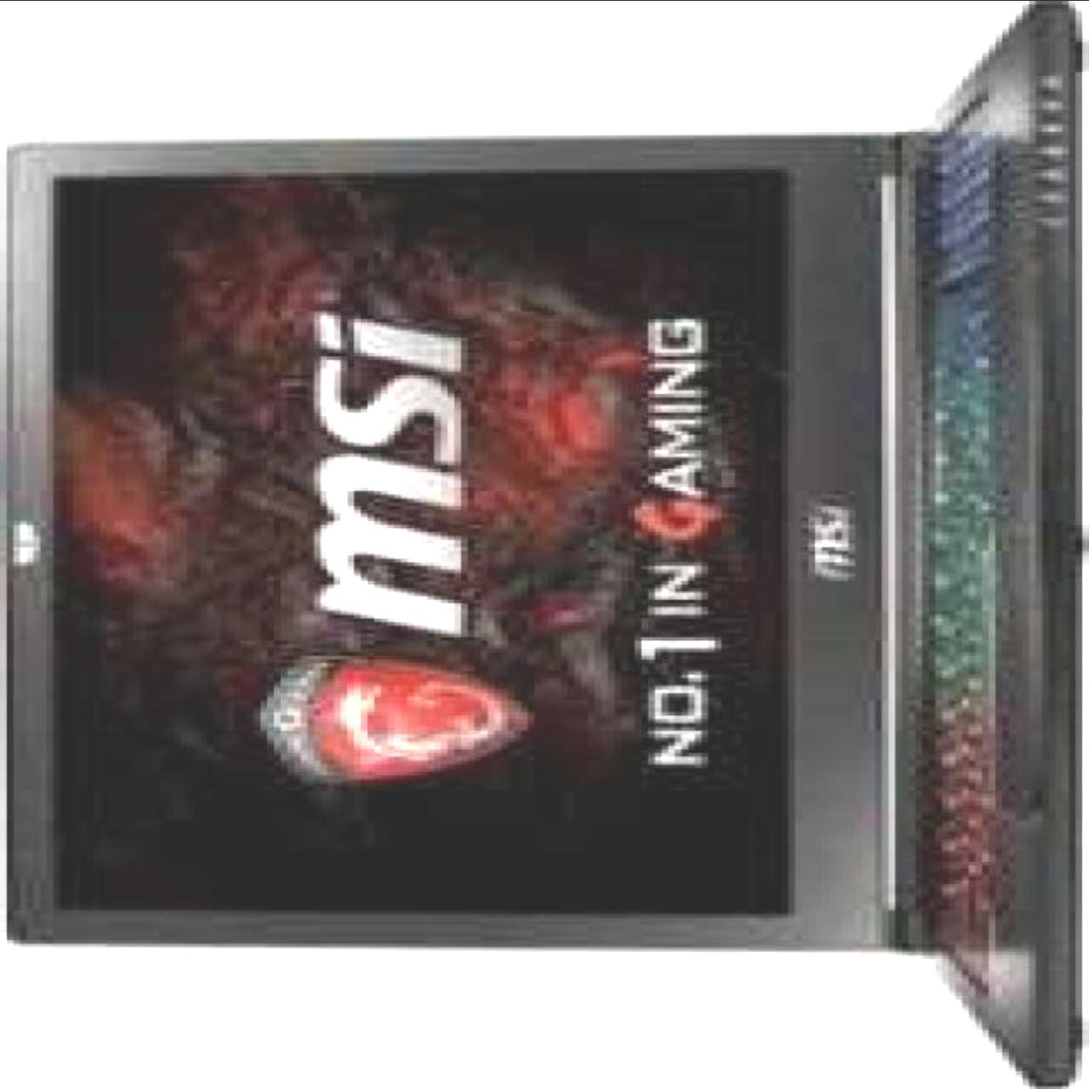laptop: (9, 19, 1086, 1012)
